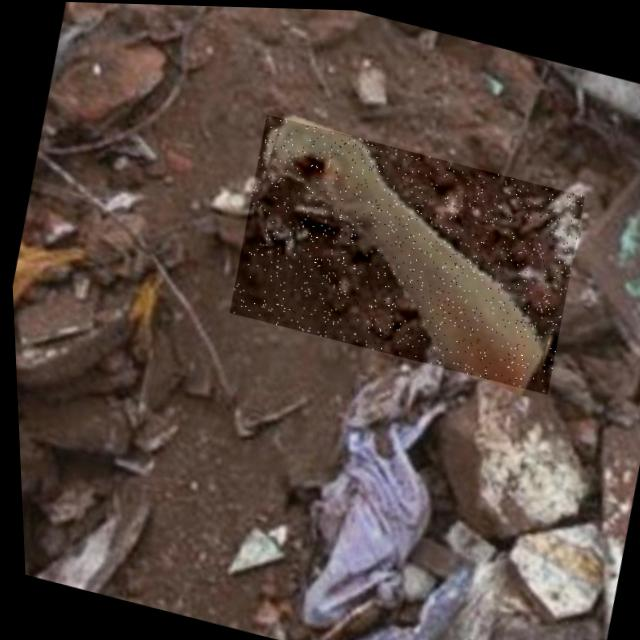Person in Rubble: (219, 112, 590, 392)
